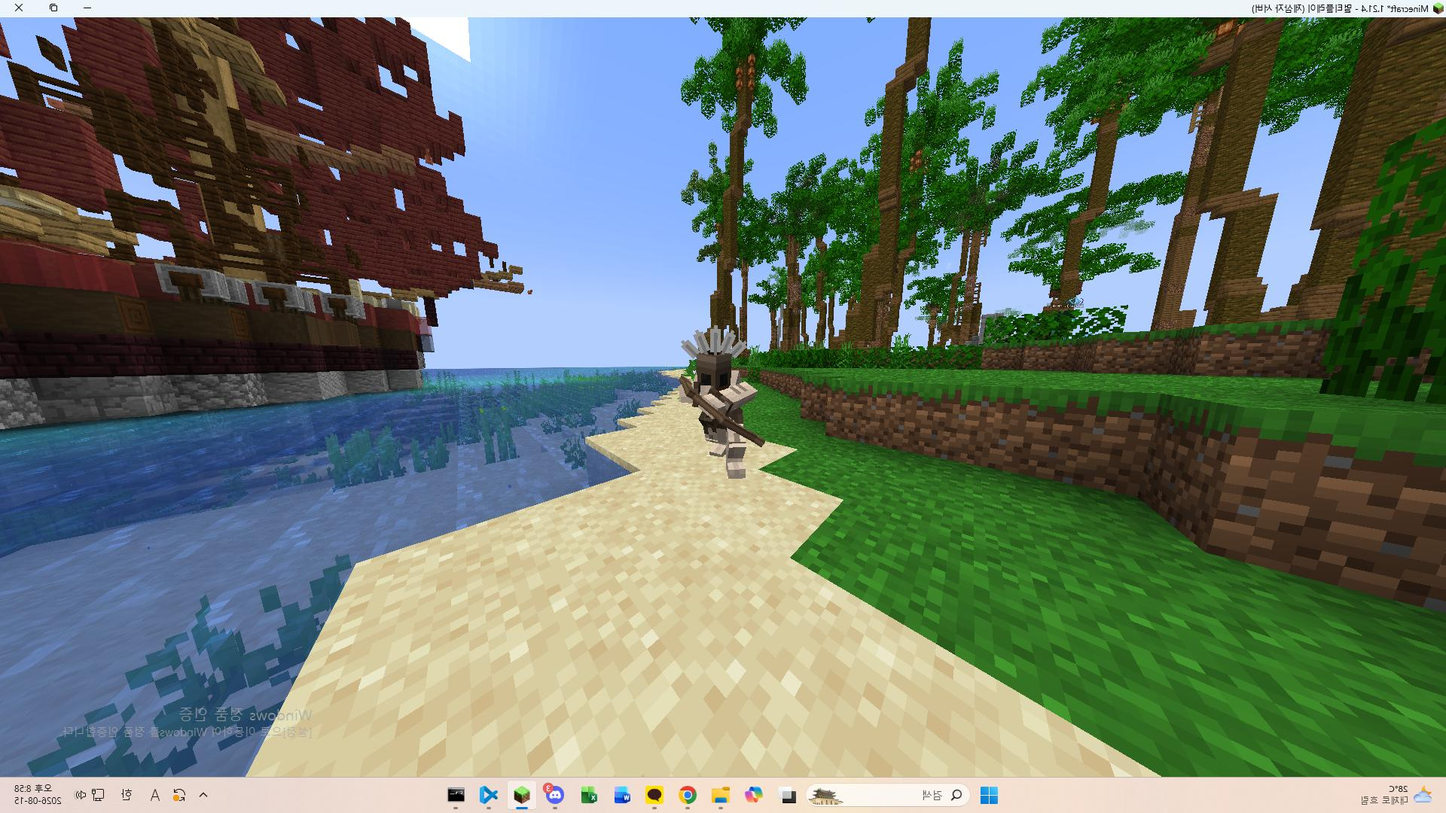bow_indian: (635, 323, 774, 512)
